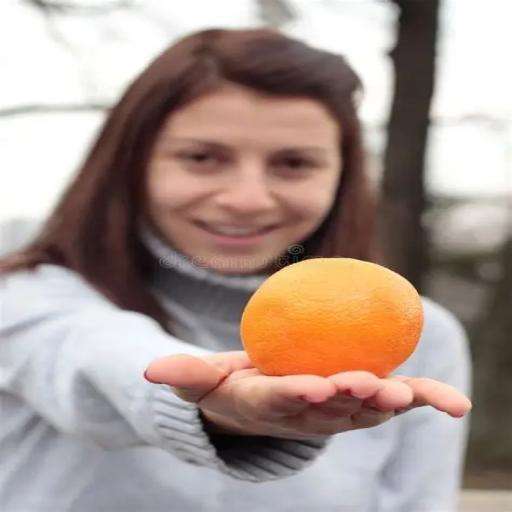orange: (240, 258, 423, 377)
